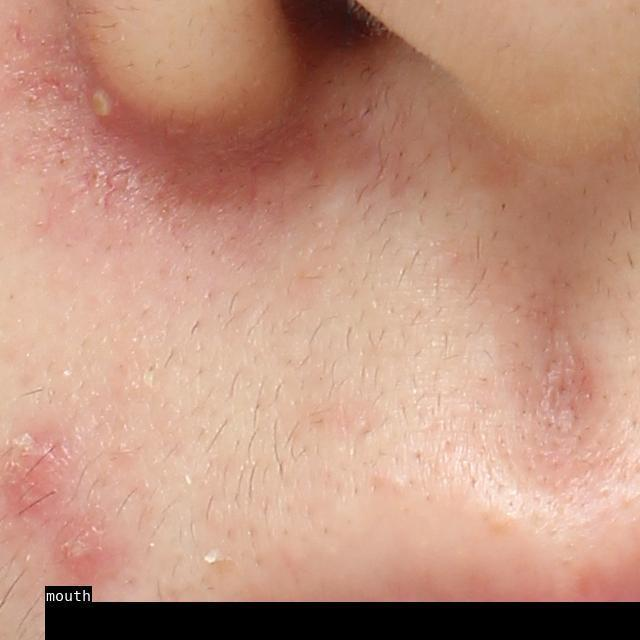papule: (51, 506, 122, 586)
pustule: (80, 82, 121, 132)
